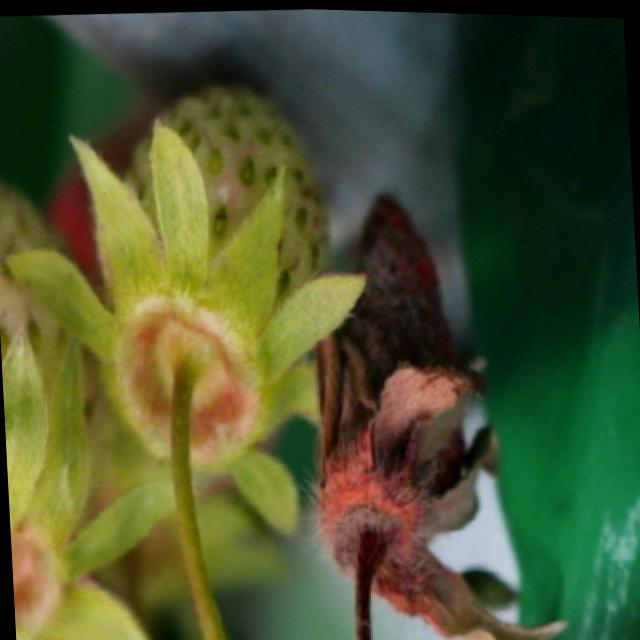Gray Mold: (311, 190, 576, 640)
